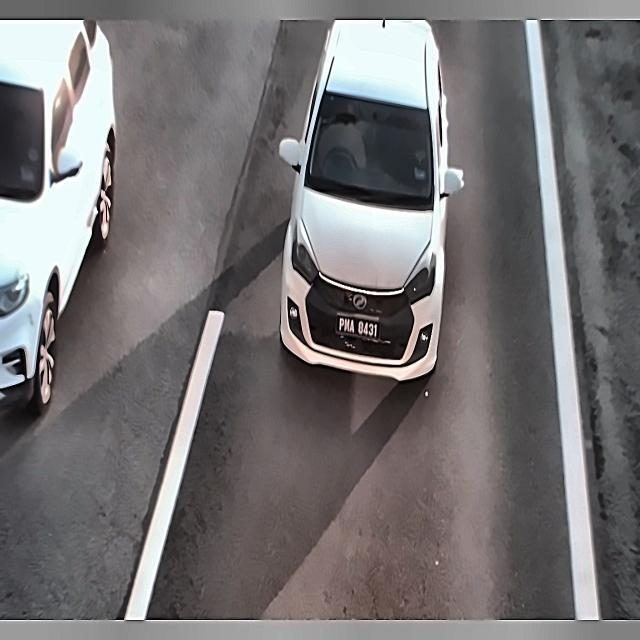car: (334, 308, 382, 345)
